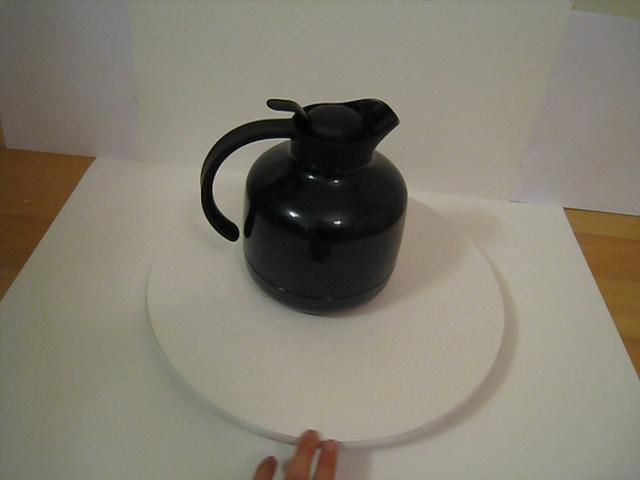pitcher: (194, 81, 418, 322)
